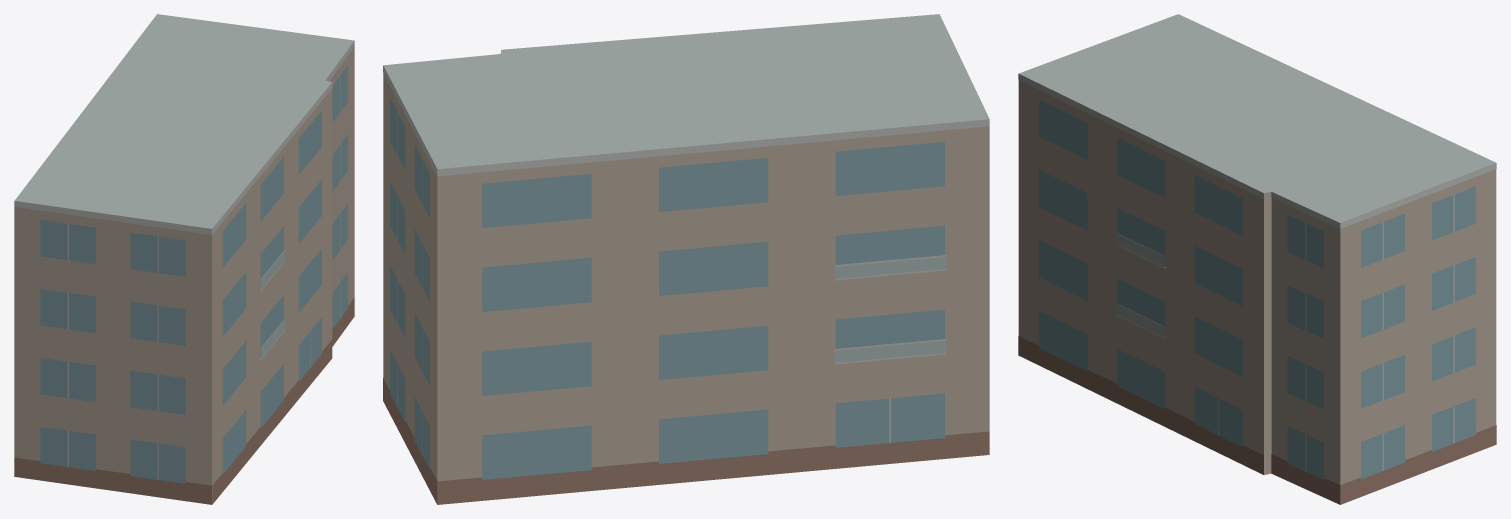
The model's file is survey-upis-32936212.glb.
The picture shows the model from 3 angles, left to right: view 1: azimuth 30°, elevation 25°; view 2: azimuth 150°, elevation 25°; view 3: azimuth 270°, elevation 25°; orthographic projection. The views are drawn at different scales.
Visible parts, largest first — view 1: survey-upis-32936212.tmp; view 2: survey-upis-32936212.tmp; view 3: survey-upis-32936212.tmp.
Part boxes in pixels (x1,y1,x2,y2): survey-upis-32936212.tmp: (14,14,354,504); survey-upis-32936212.tmp: (383,14,989,504); survey-upis-32936212.tmp: (1018,14,1496,504).
Size of the model in its own units: 17.98 by 11.3 by 17.37.
